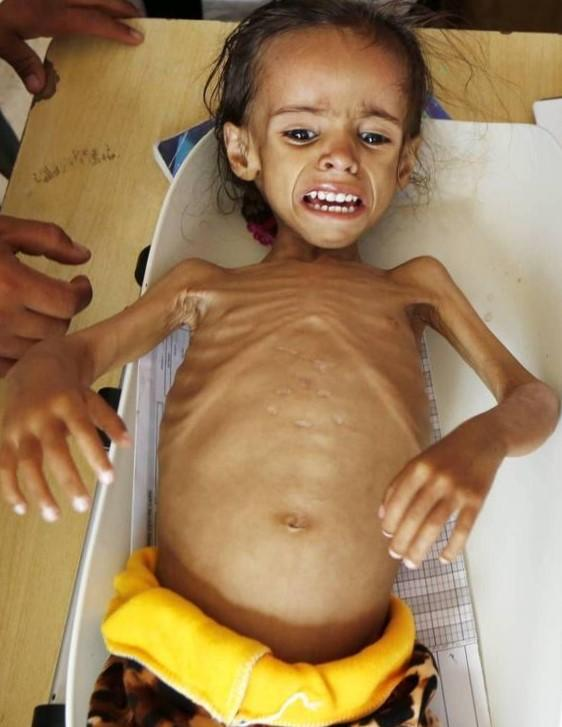Stunting: (156, 0, 448, 310)
